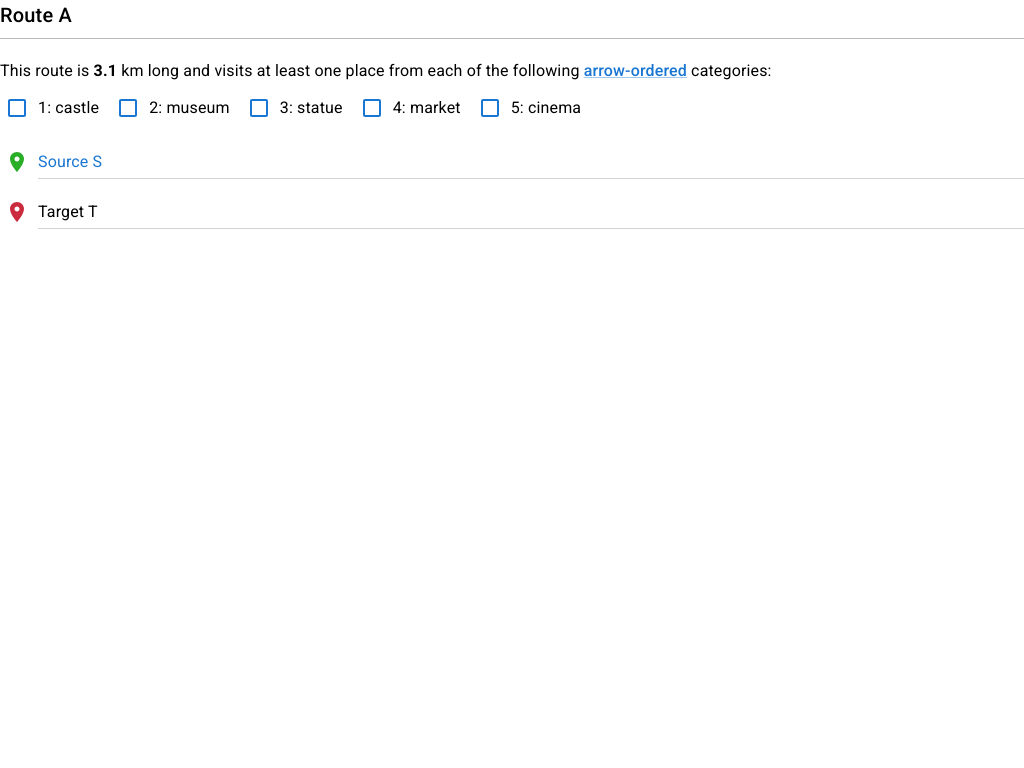
it: <ViewerRouteContent /> › arrows › arrows dialog should hide upon Hide
Click the button with aria-label "arrows" at (635, 70), box top-left (584, 61), bottom-right (687, 80)
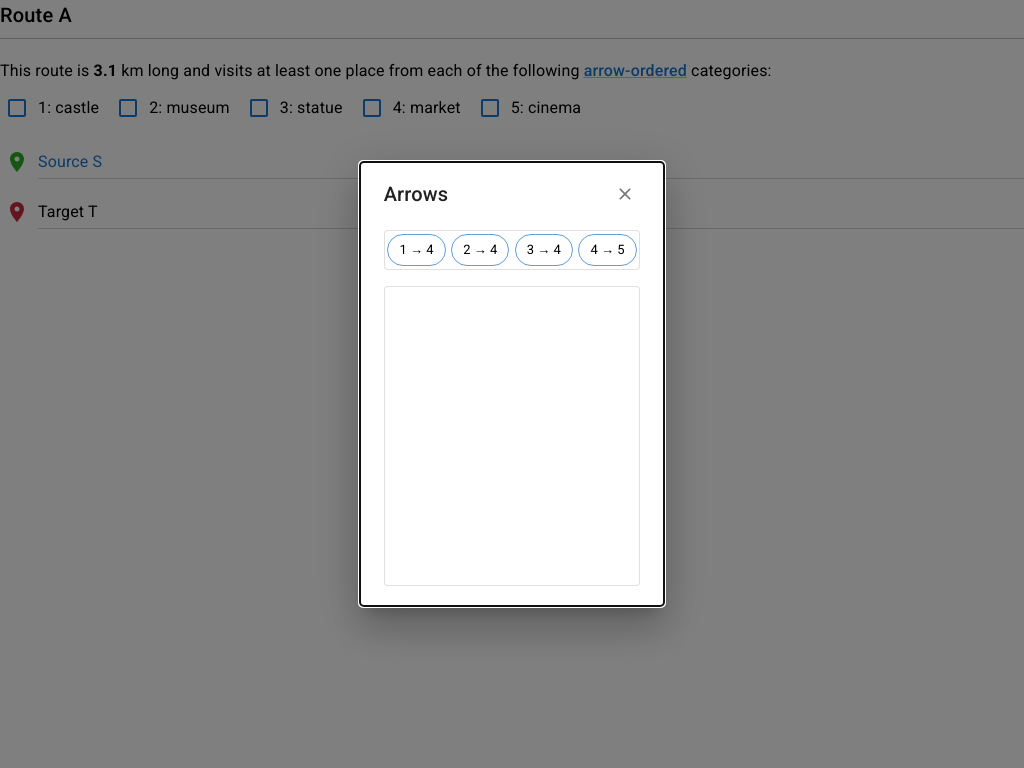
Click the button named "Hide dialog" at (625, 194), box top-left (610, 179), bottom-right (640, 209)
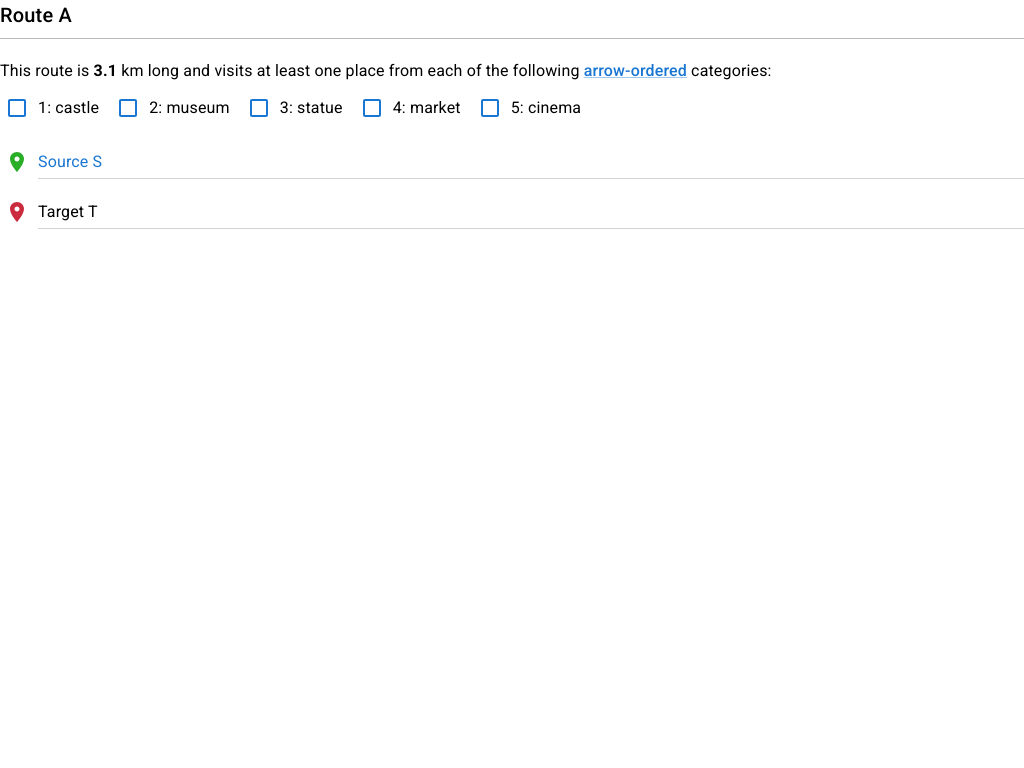
Now the dialog is gone
